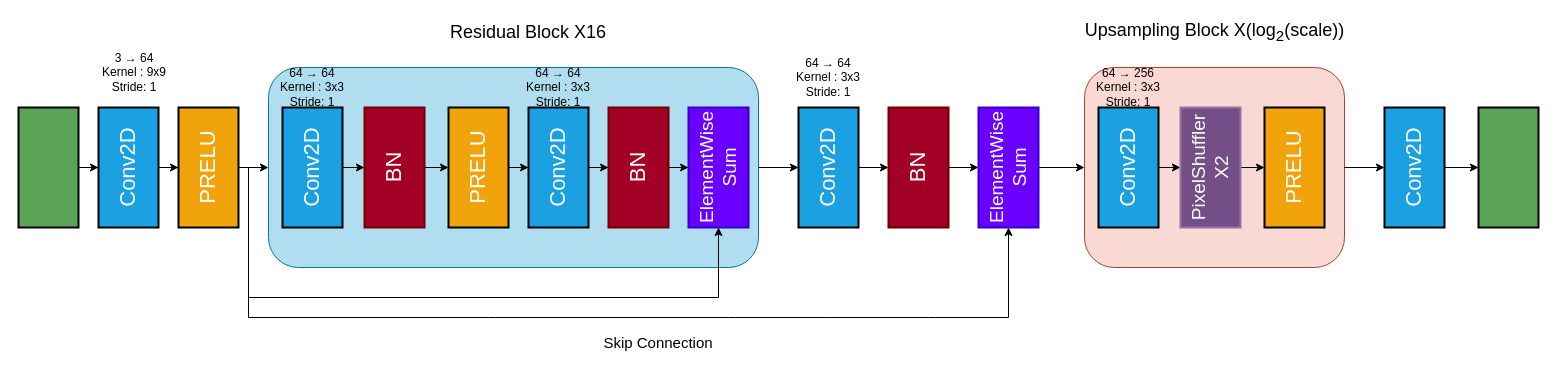
Some shapes in this 1556 by 374 pixel diagram are drawn without their labels. Here are the shapes that lost their labels. From the top down, the centre of each, then its label:
At (48,167): "Input".
At (1508,167): "Ouput".
